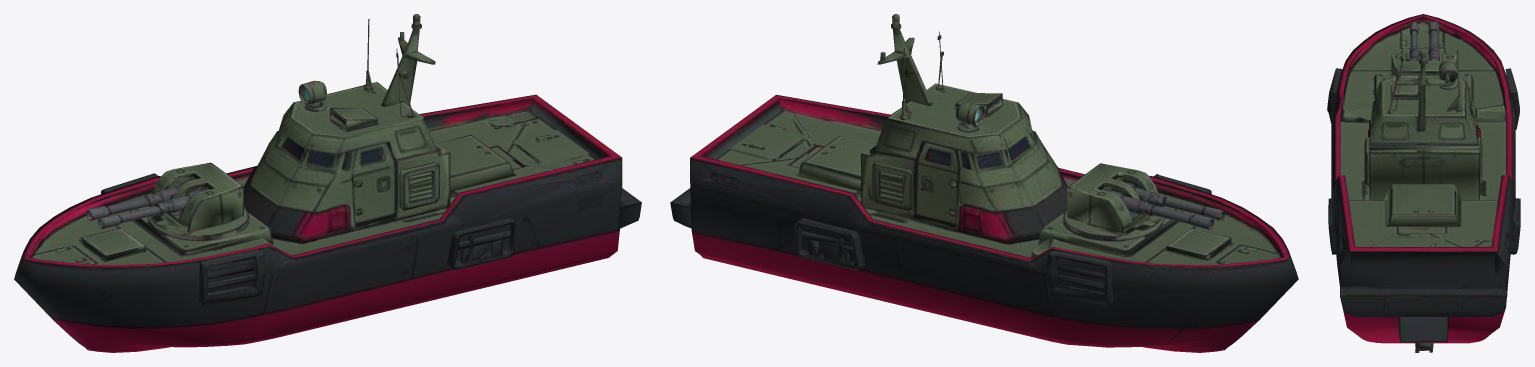
Rendered from gunboat.glb.
3 renders of one model, left to right at view 1: azimuth 30°, elevation 25°; view 2: azimuth 150°, elevation 25°; view 3: azimuth 270°, elevation 25°, orthographic. The views are drawn at different scales.
Bounding box in the file's own units: 0.9551 × 0.418 × 0.3179.
1 material, 1 textured.
